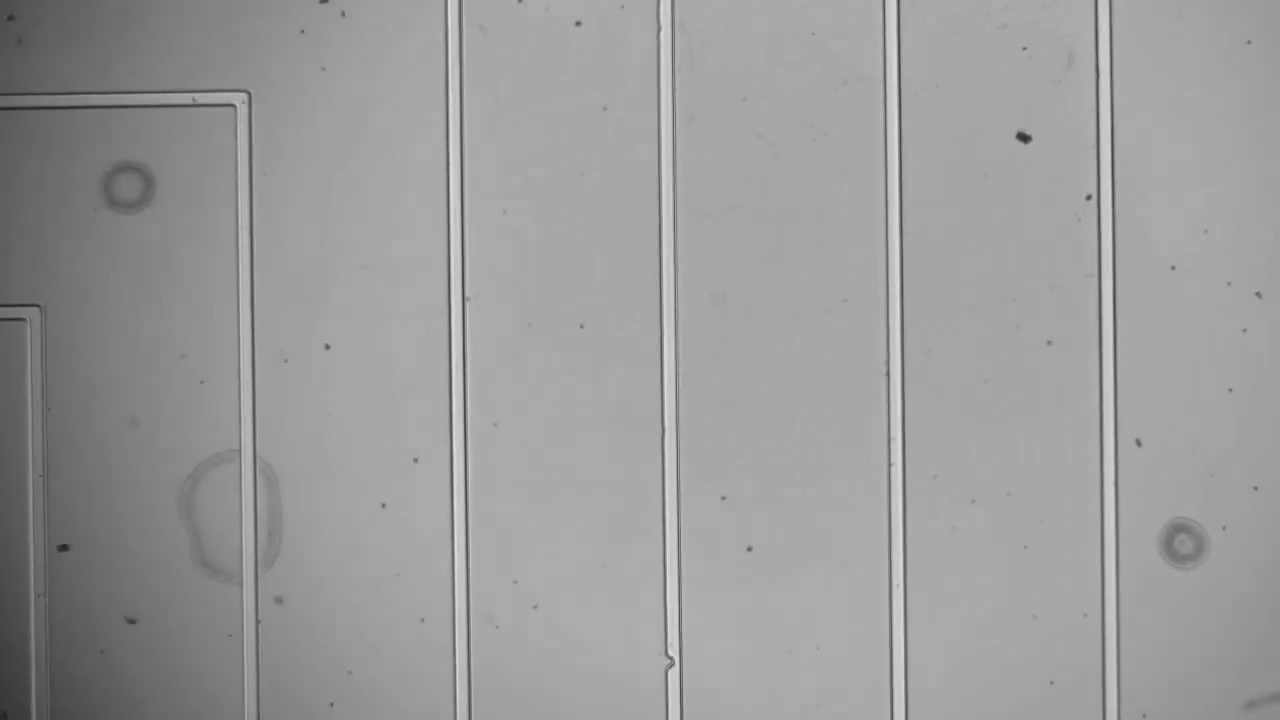edge_bite: (656, 652, 692, 677)
